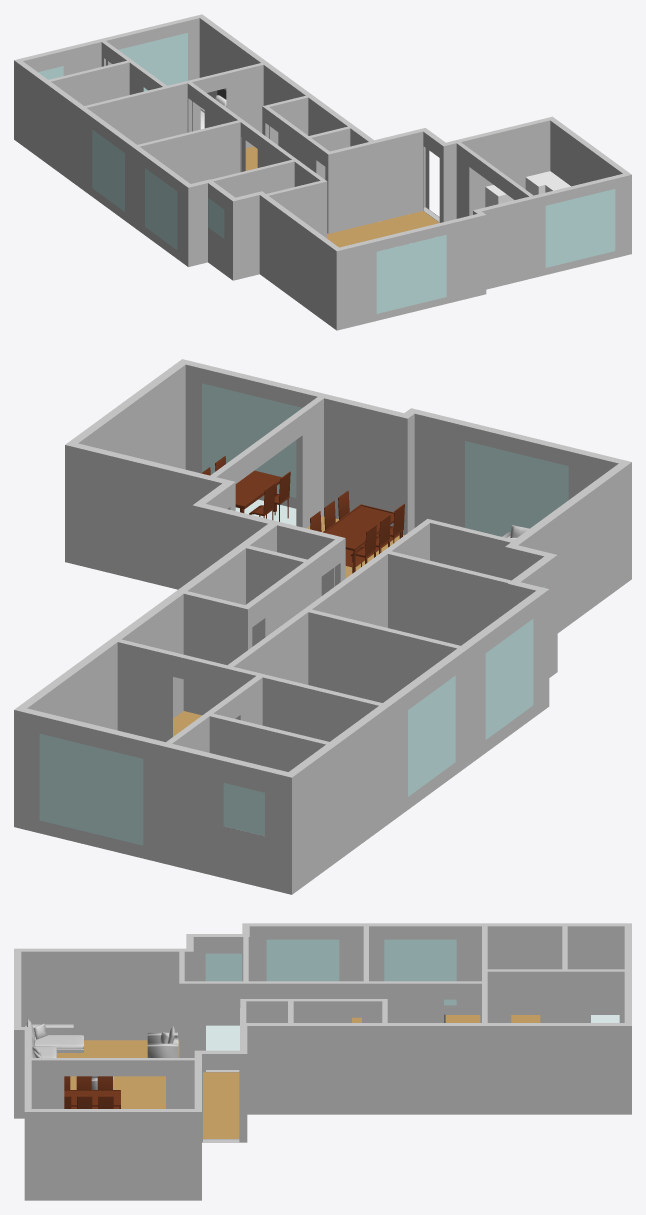
File: dept-01.glb
3 views of the same model, one above another, from view 1: azimuth 30°, elevation 25°; view 2: azimuth 150°, elevation 25°; view 3: azimuth 270°, elevation 25° (orthographic). The views are drawn at different scales.
Visible parts, largest first — view 1: Muros, Vent 2, Vent 1, Vent 8, Polygon-suelo 1.004, Vent 6, Vent 5, Cube.2, Vent 4; view 2: Muros, Vent 8, Vent 2, Vent 1, Vent 5, Vent 6, mesa-comedor.001, Vent 7, mesa, Polygon-suelo 1.004; view 3: Muros, Polygon-suelo 1.004, Vent 6, Vent 5, Loft, Vent 4, Polygon-suelo 2.001, KOL1_1.1, mesa-comedor.001.
Boxes of the visible parts, box(x1,y1,x2,y2) form: Muros: box(14, 14, 631, 330); Vent 2: box(376, 234, 446, 313); Vent 1: box(545, 189, 615, 267); Vent 8: box(118, 33, 187, 91); Polygon-suelo 1.004: box(245, 146, 438, 247); Vent 6: box(92, 129, 124, 211); Vent 5: box(145, 168, 177, 249); Cube.2: box(525, 171, 570, 195); Vent 4: box(208, 198, 224, 238); Muros: box(14, 359, 631, 894); Vent 8: box(39, 734, 143, 845); Vent 2: box(465, 441, 568, 536); Vent 1: box(202, 383, 301, 497); Vent 5: box(485, 619, 533, 739); Vent 6: box(408, 675, 455, 796); mesa-comedor.001: box(323, 504, 401, 572); Vent 7: box(223, 783, 264, 835); mesa: box(235, 470, 281, 512); Polygon-suelo 1.004: box(173, 516, 404, 736); Muros: box(14, 923, 631, 1200); Polygon-suelo 1.004: box(57, 1040, 239, 1138); Vent 6: box(384, 939, 456, 1005); Vent 5: box(266, 939, 339, 981); Loft: box(24, 1018, 83, 1057); Vent 4: box(205, 953, 241, 981); Polygon-suelo 2.001: box(206, 1025, 239, 1050); KOL1_1.1: box(147, 1026, 178, 1057); mesa-comedor.001: box(64, 1090, 120, 1108).
Bounding box in the file's own units: 0.2957 × 0.0653 × 0.4093.
